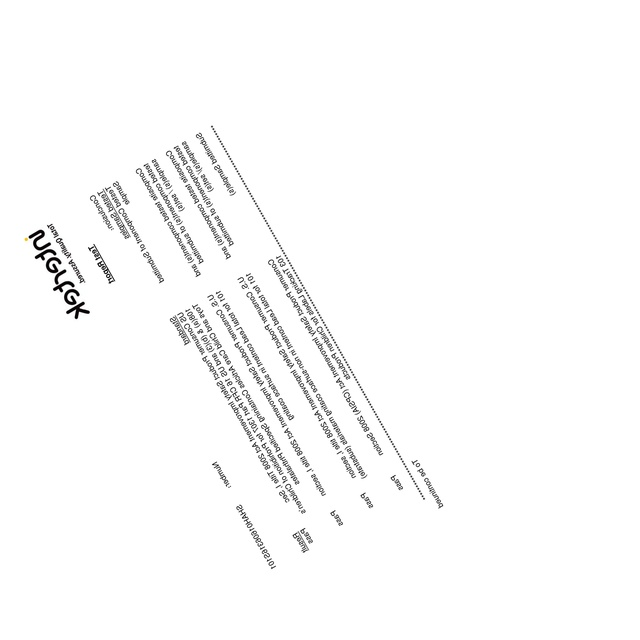intertek: (23, 223, 91, 326)
